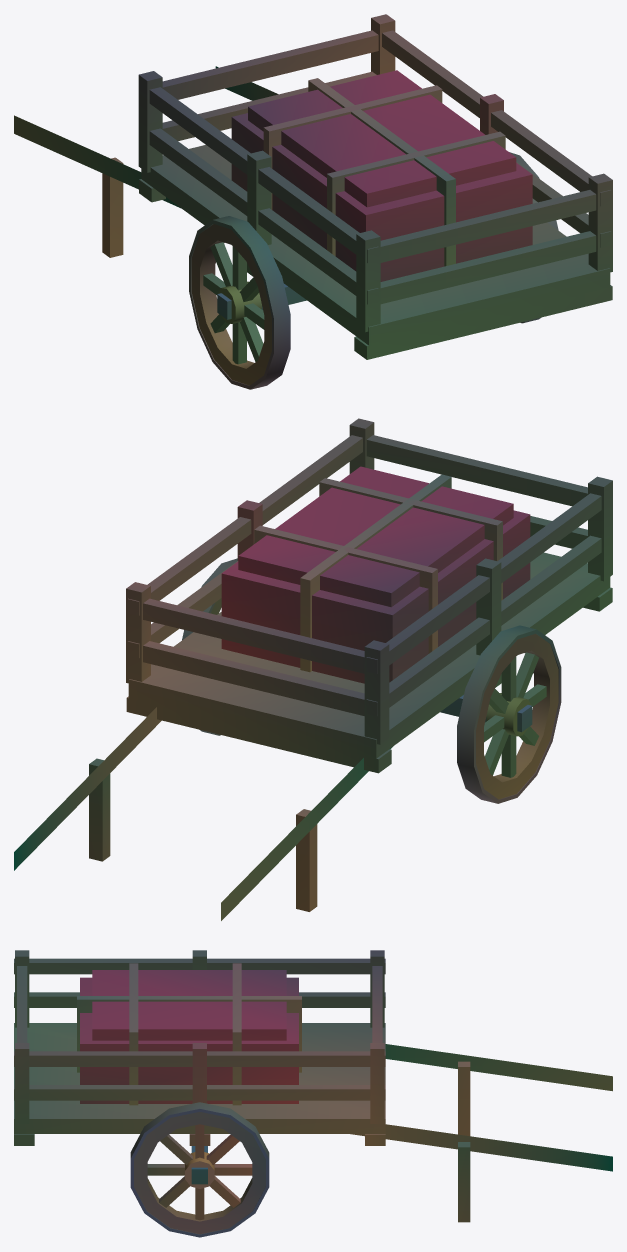
The model's file is hand_cart.glb.
3 renders of one model, top to bottom at view 1: azimuth 30°, elevation 25°; view 2: azimuth 150°, elevation 25°; view 3: azimuth 270°, elevation 25°, orthographic. The views are drawn at different scales.
Parts seen in each view (by area): view 1: cart, cart_bale, cart_cord, wheel_rim, wheel_tire, wheel_hub, cart_axle; view 2: cart, cart_bale, cart_cord, wheel_rim, wheel_tire, wheel_hub; view 3: cart, cart_bale, wheel_rim.001, cart_cord, wheel_tire.001, wheel_hub.001.
Part boxes in pixels (x1,y1,x2,y2): cart: (14,14,612,364); cart_bale: (231,70,532,281); cart_cord: (263,78,505,266); wheel_rim: (191,224,271,385); wheel_tire: (189,216,290,389); wheel_hub: (218,281,261,323); cart_axle: (217,283,306,319); cart: (14,418,612,920); cart_bale: (221,466,530,683); cart_cord: (254,474,502,672); wheel_rim: (476,633,558,799); wheel_tire: (457,625,561,803); wheel_hub: (486,693,531,736); cart: (14,950,612,1222); cart_bale: (80,970,298,1103); wheel_rim.001: (134,1112,265,1234); cart_cord: (77,963,301,1105); wheel_tire.001: (130,1102,269,1237); wheel_hub.001: (185,1152,214,1188).
Size of the model in its own units: 1.4 by 0.974 by 2.9.
